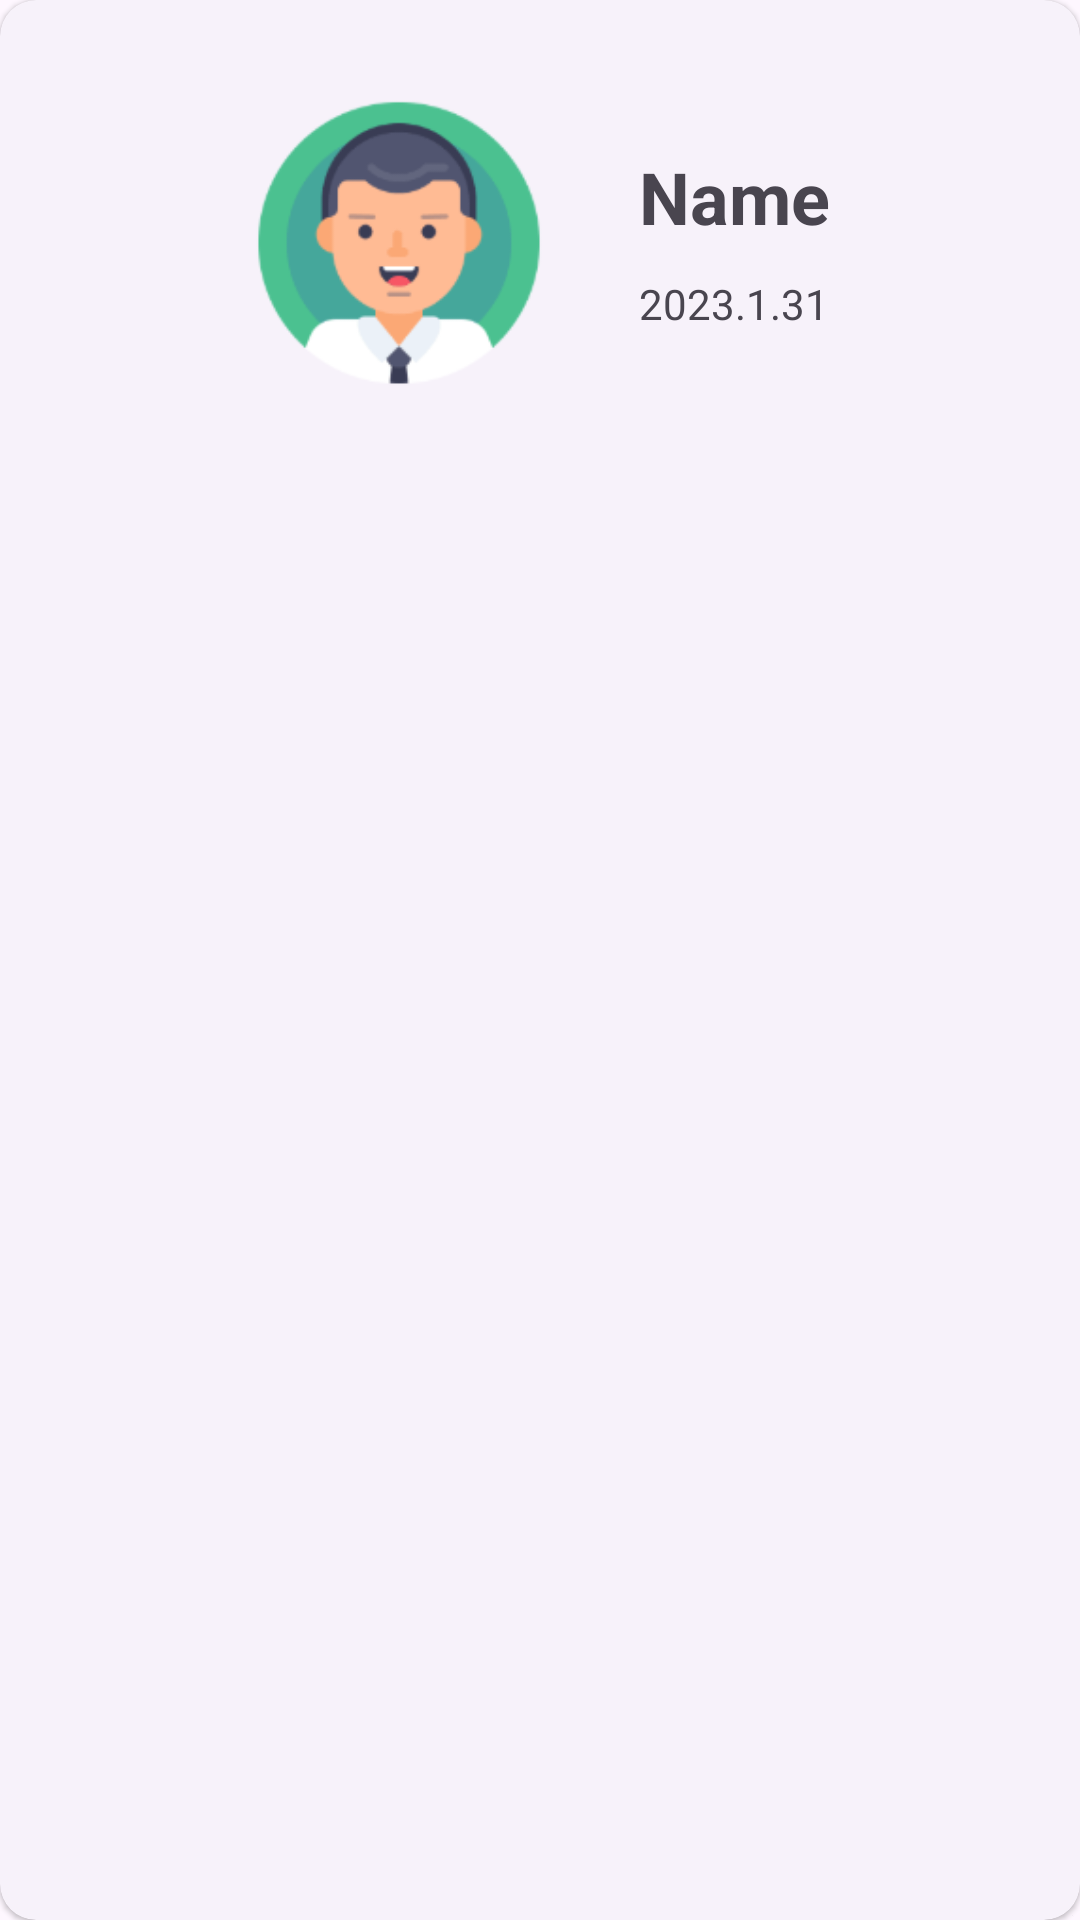

Named icons in this screenshot (1080×1920) and their centers, (x=x, y=y):
man: (x=399, y=243)
